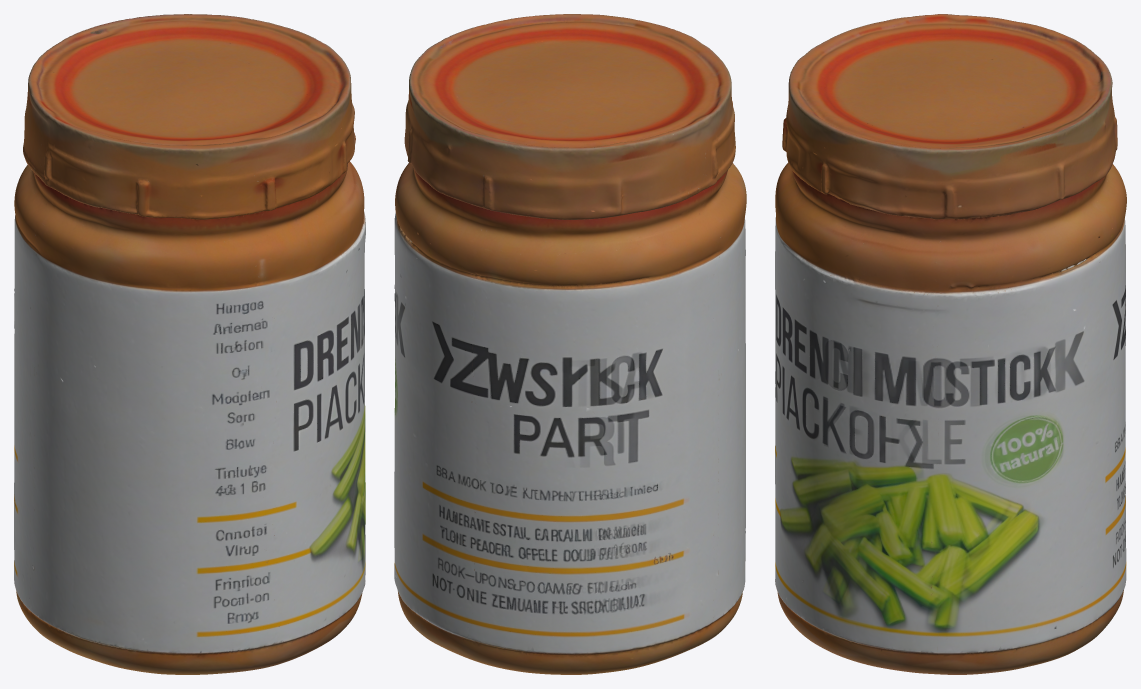
File: drumstick.glb
The picture shows the model from 3 angles, left to right: view 1: azimuth 30°, elevation 25°; view 2: azimuth 150°, elevation 25°; view 3: azimuth 270°, elevation 25°; orthographic projection.
Size of the model in its own units: 1.2 by 2 by 1.2.
1 material, 1 textured.
